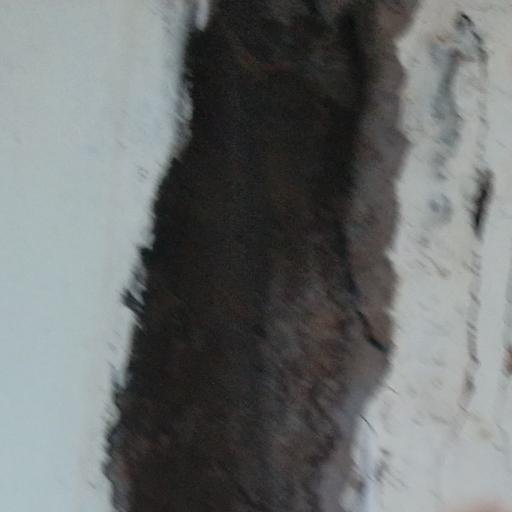spalling: (101, 0, 415, 512)
